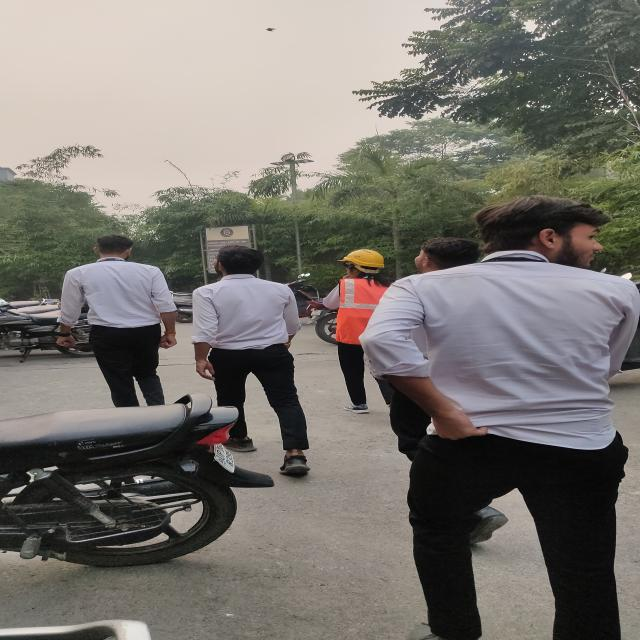safe: (332, 248, 401, 408)
unsafe: (364, 193, 633, 640), (194, 243, 320, 479), (55, 230, 180, 406)
